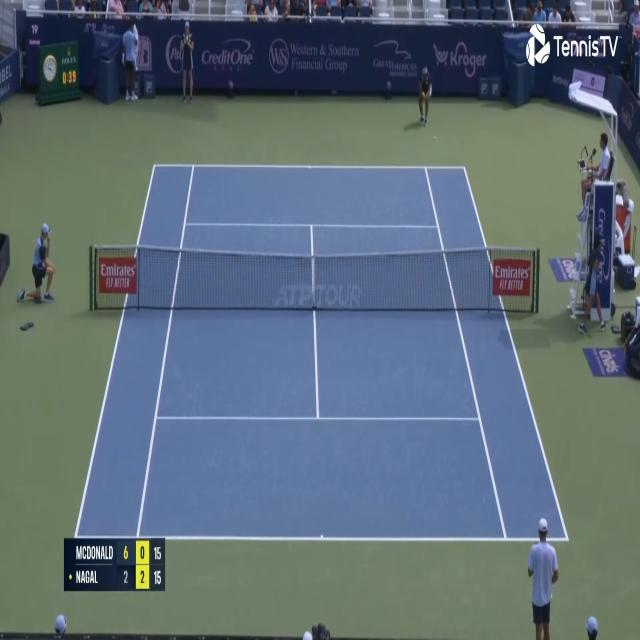tennis-player: (526, 516, 559, 640), (416, 66, 432, 126)
